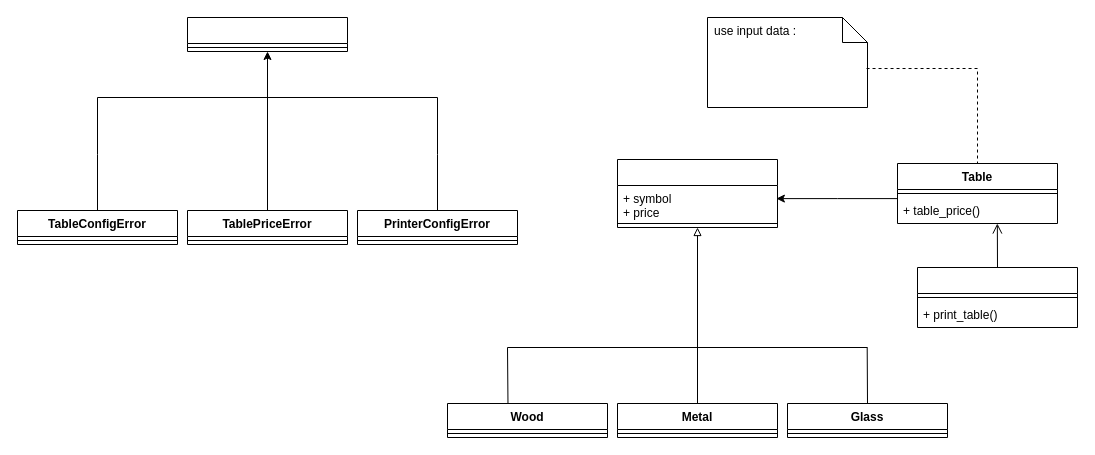
The diagram is 1095 pixels wide and 455 high, and some of its shapes have lost their labels. Here are the shapes that lost their labels. From the top down, the box of each, then its label:
(186, 16, 348, 52): TableError
(706, 16, 868, 108): user_plate = [ [i, ..., n ], [i, ..., n ], [i, ... ,n ] ]
(616, 158, 778, 228): TableMaterial
(916, 266, 1078, 328): Printer
